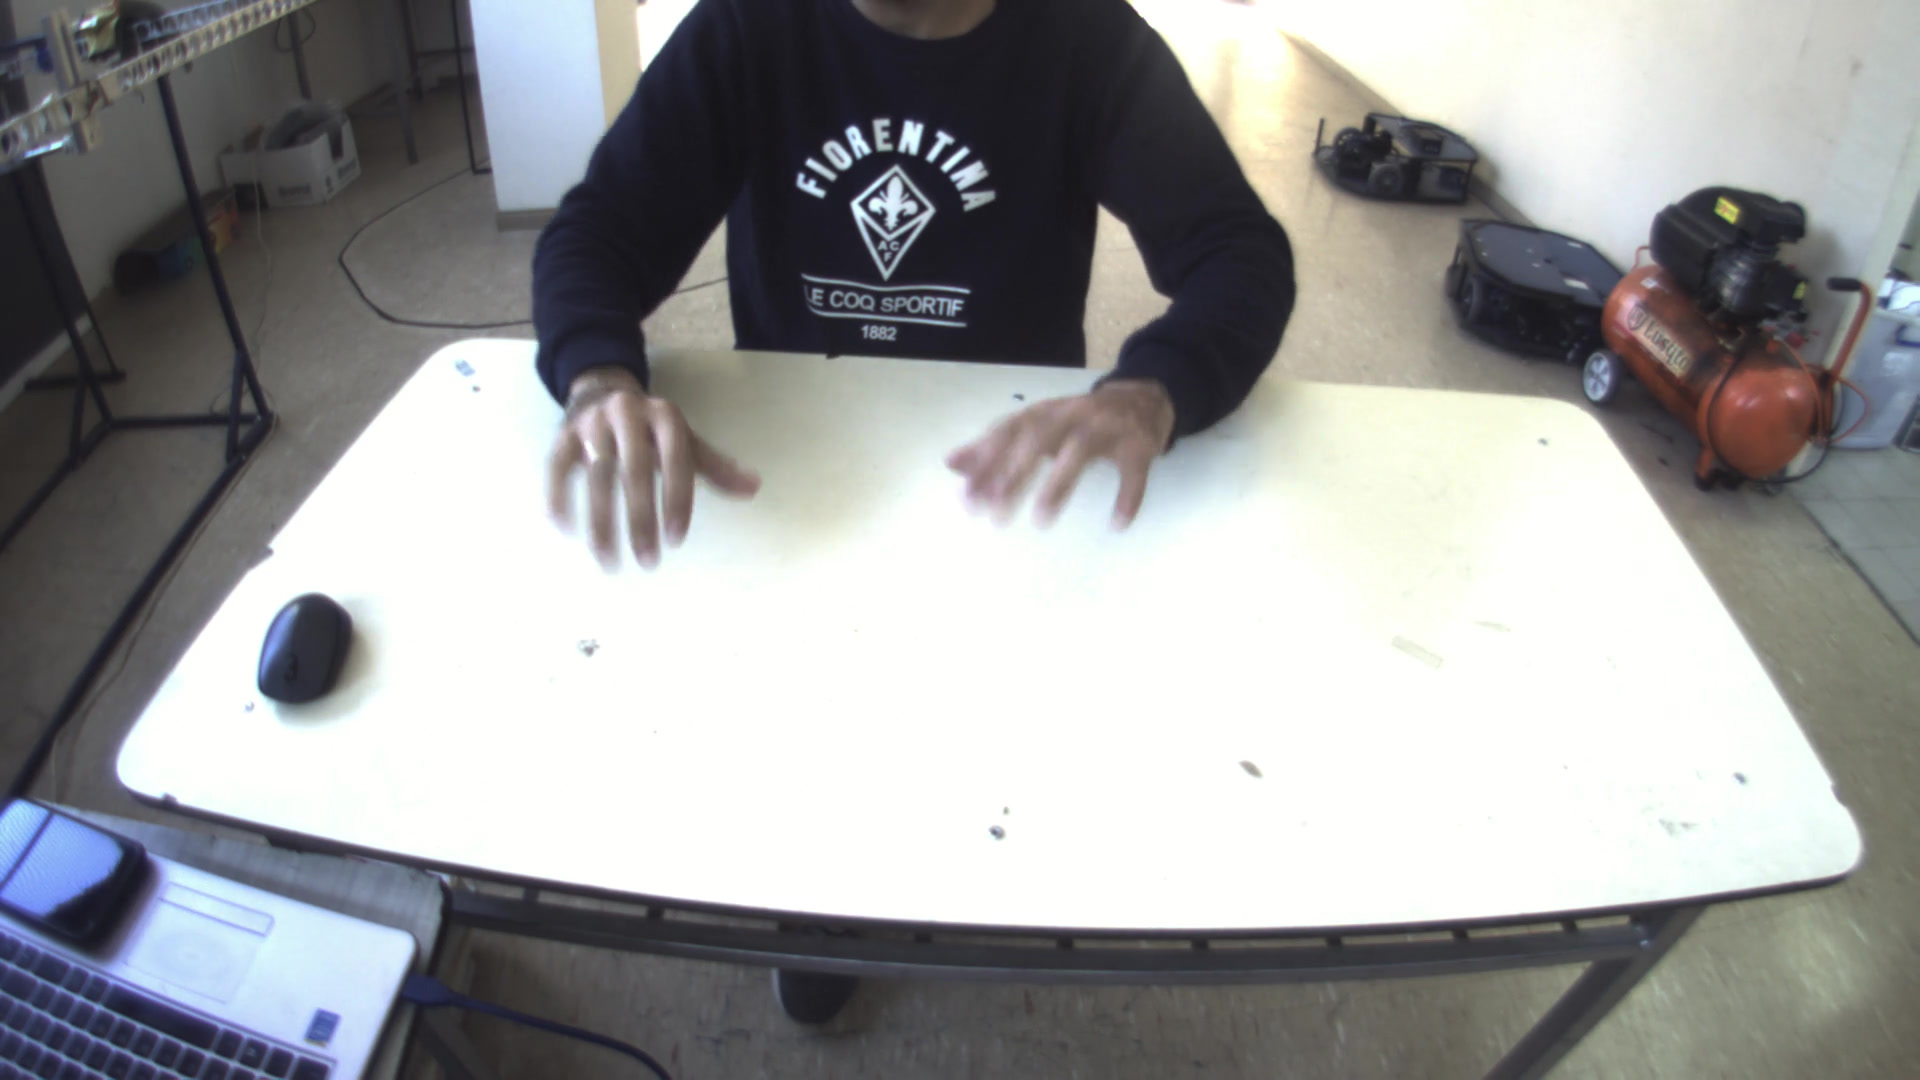hand: (531, 363, 765, 570), (938, 364, 1187, 531)
